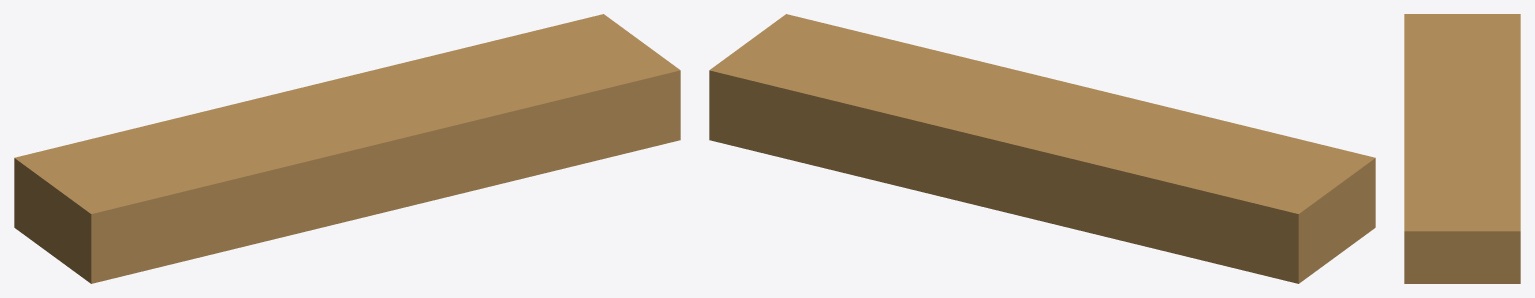
The picture shows the model from 3 angles, left to right: view 1: azimuth 30°, elevation 25°; view 2: azimuth 150°, elevation 25°; view 3: azimuth 270°, elevation 25°; orthographic projection. The views are drawn at different scales.
Visible parts, largest first — view 1: RUN-005-S00-NOG-04; view 2: RUN-005-S00-NOG-04; view 3: RUN-005-S00-NOG-04.
Part boxes in pixels (<box>): RUN-005-S00-NOG-04: <box>14,14,680,283</box>; RUN-005-S00-NOG-04: <box>709,14,1375,283</box>; RUN-005-S00-NOG-04: <box>1404,14,1520,283</box>.
Size of the model in its own units: 0.3977 by 0.045 by 0.09.
